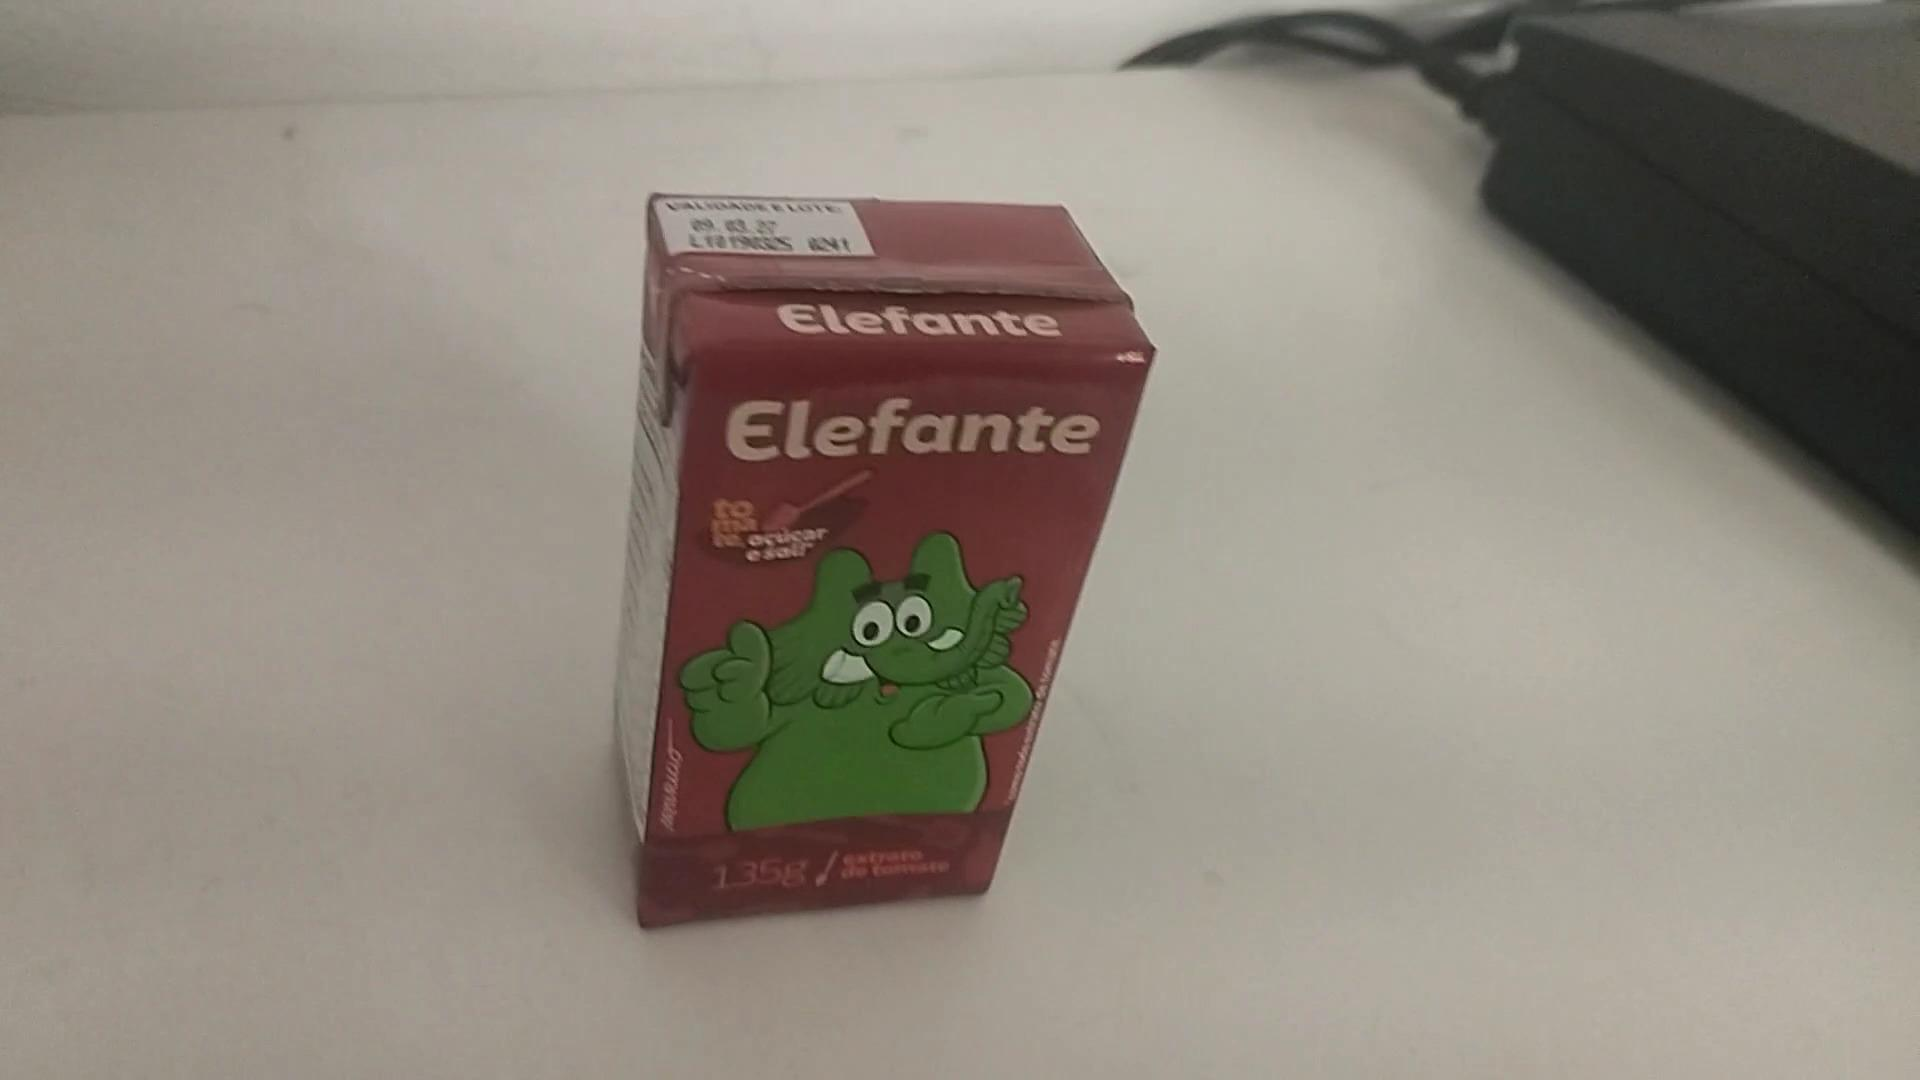tomate: (579, 153, 1179, 931)
